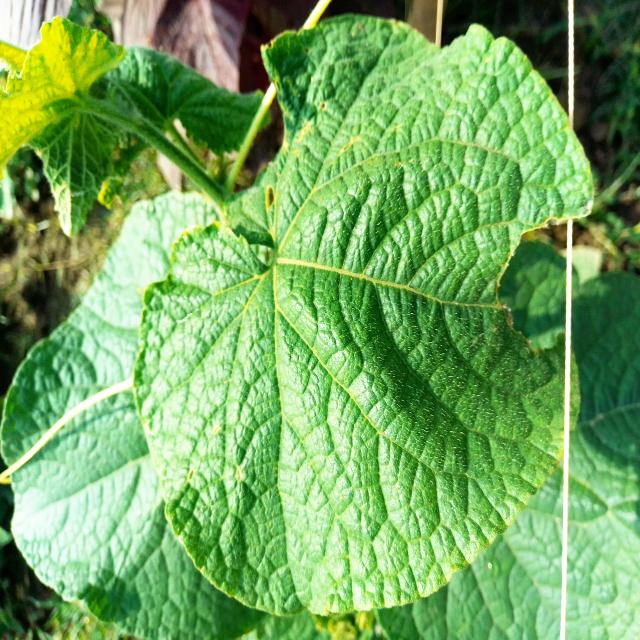Fresh-Leaf: (134, 17, 597, 620)
